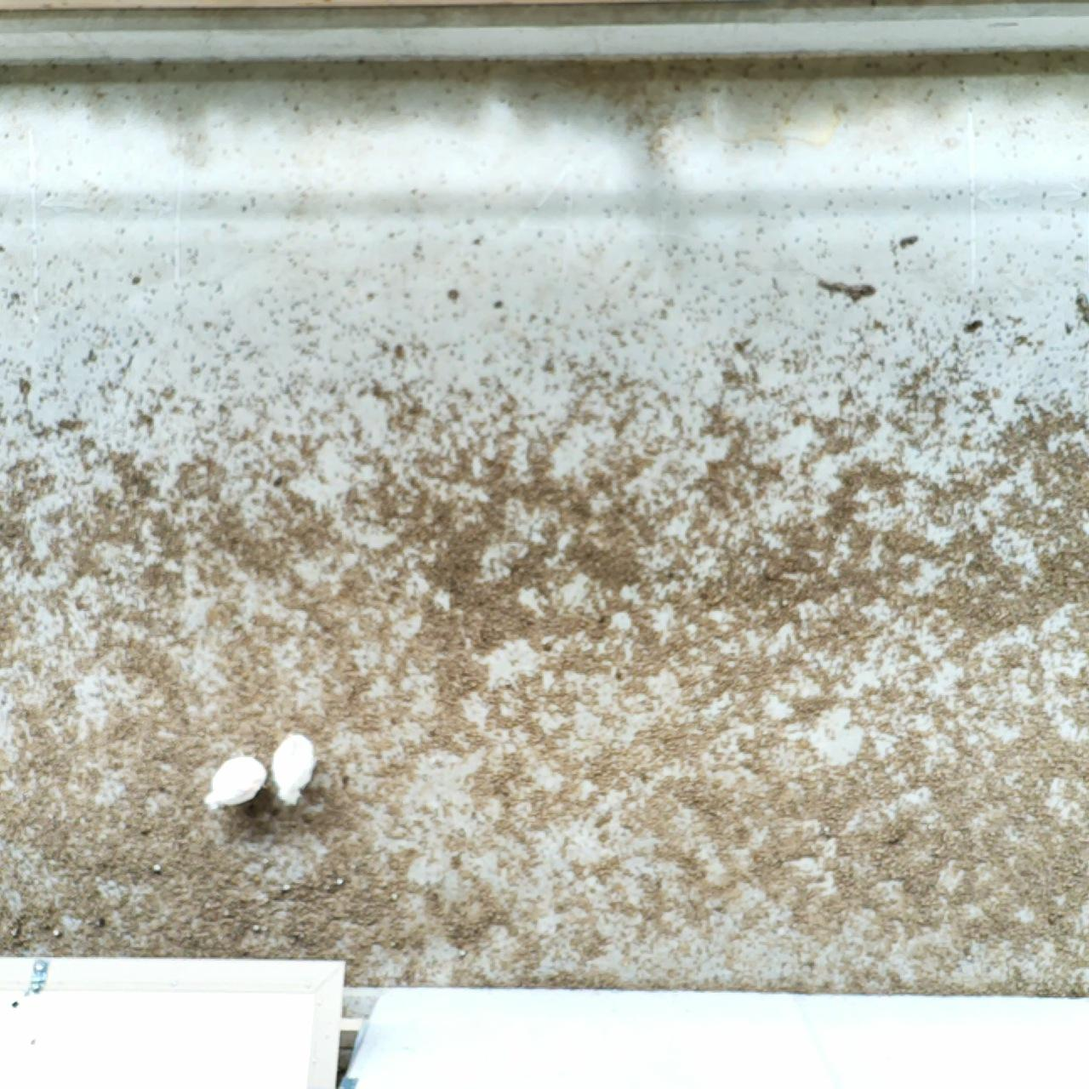chicken: (203, 750, 269, 814), (267, 732, 323, 805)
